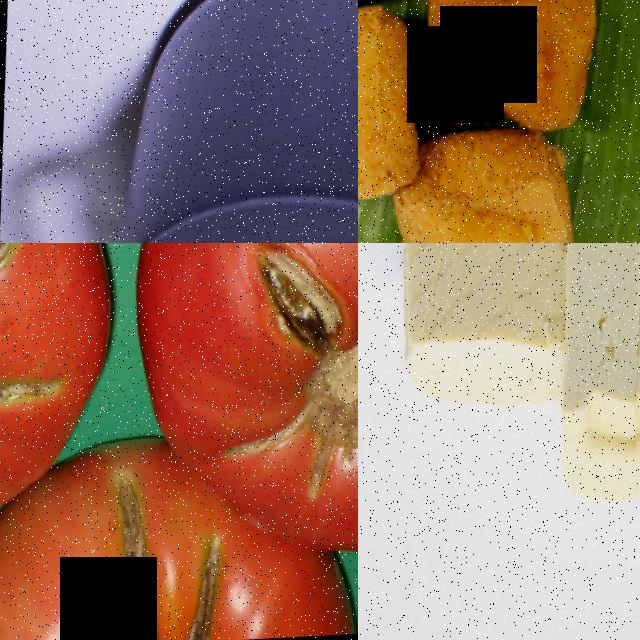tofu: (377, 243, 579, 420), (404, 0, 603, 150), (374, 115, 584, 243), (537, 243, 640, 453), (358, 0, 427, 221), (610, 243, 640, 456)
